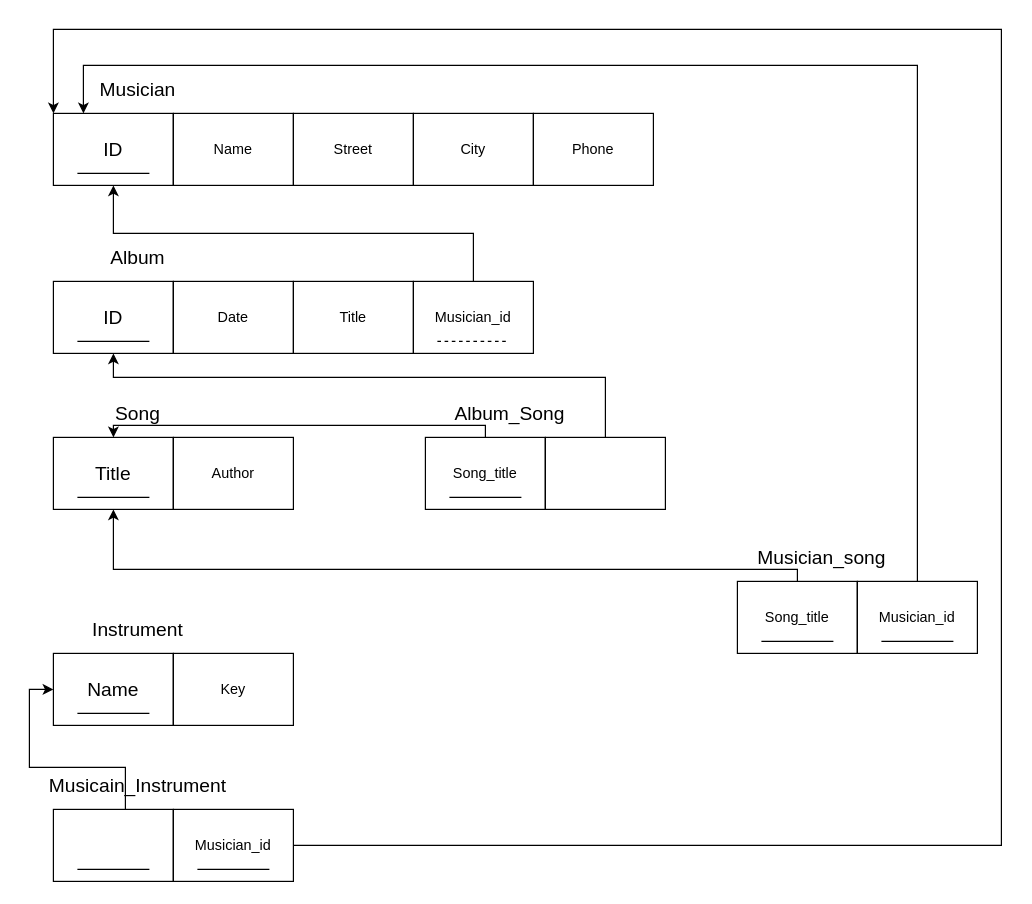
Image size: 1032x904. Some labels were removed from this diagram. Here are the shapes that lost their labels. From the top down, the centre of each, then its label:
point (604, 472): Album_id
point (112, 844): Instrument_name
